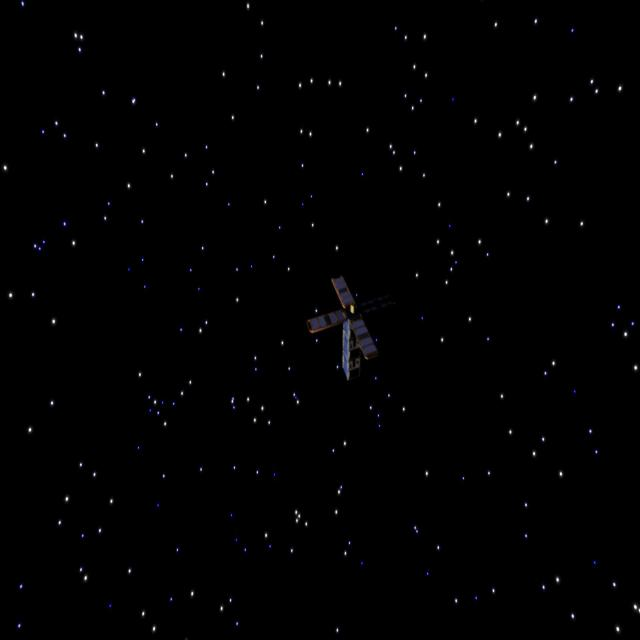medium_debris: (301, 267, 381, 385)
